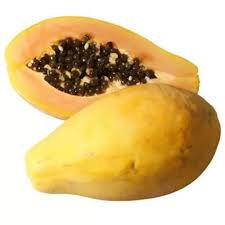papaya: (26, 84, 221, 200), (5, 15, 201, 123)
